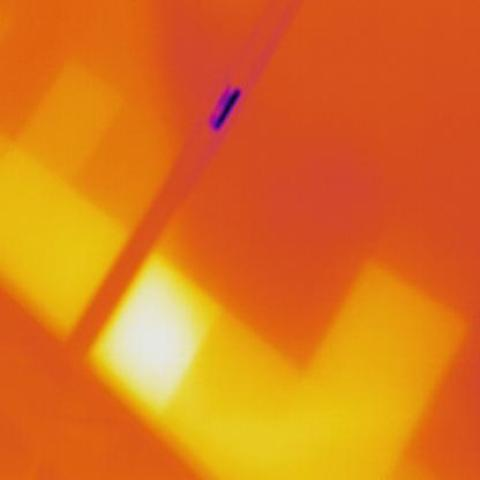fault: (102, 272, 196, 386)
